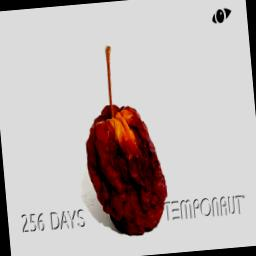Apple Rotten: (66, 13, 186, 240)
